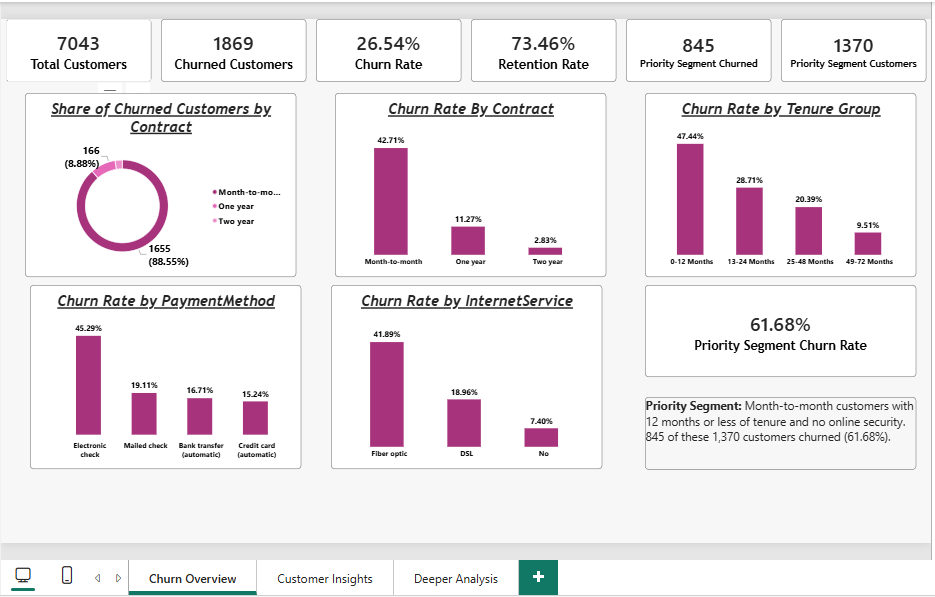

The dashboard page shown, as its layout file describes it:
{"tool":"powerbi","page":{"name":"Churn Overview","canvas":[1920,1080],"ordinal":0},"visuals":[{"type":"card","fields":{"Values":["TelcoCustomerChurn.Total Customers"]},"box":[10,0,300,130],"z":0},{"type":"card","fields":{"Values":["TelcoCustomerChurn.Churned Customers"]},"box":[330,0,300,130],"z":1000},{"type":"card","fields":{"Values":["TelcoCustomerChurn.Churn Rate"]},"box":[650,0,300,130],"z":2000},{"type":"card","fields":{"Values":["TelcoCustomerChurn.Retention Rate"]},"box":[970,0,300,130],"z":3000},{"type":"donutChart","title":"Share of Churned Customers by Contract","fields":{"Category":["TelcoCustomerChurn.Contract"],"Y":["TelcoCustomerChurn.Churned Customers"]},"box":[49.9,151.8,560,380],"z":4000},{"type":"clusteredColumnChart","title":"Churn Rate By Contract","fields":{"Category":["TelcoCustomerChurn.Contract"],"Y":["TelcoCustomerChurn.Churn Rate"]},"box":[689.6,151.8,560,380],"z":5000},{"type":"clusteredColumnChart","fields":{"Category":["TelcoCustomerChurn.PaymentMethod"],"Y":["TelcoCustomerChurn.Churn Rate"]},"box":[60.5,550,560,380],"z":6000},{"type":"clusteredColumnChart","fields":{"Category":["TelcoCustomerChurn.InternetService"],"Y":["TelcoCustomerChurn.Churn Rate"]},"box":[680.3,550,560,380],"z":7000},{"type":"clusteredColumnChart","fields":{"Category":["TelcoCustomerChurn.Tenure Group"],"Y":["TelcoCustomerChurn.Churn Rate"]},"box":[1329.4,151.8,560,380],"z":8000},{"type":"card","fields":{"Values":["TelcoCustomerChurn.Priority Segment Churned"]},"box":[1290,0,300,130],"z":9000},{"type":"card","fields":{"Values":["TelcoCustomerChurn.Priority Segment Customers"]},"box":[1610,0,300,130],"z":10000},{"type":"card","fields":{"Values":["TelcoCustomerChurn.Priority Segment Churn Rate"]},"box":[1330,550,560,190],"z":11000},{"type":"textbox","box":[1330,780,560,150],"z":12000}]}

Visuals, with their boxes on the page's 1920x1080 design canvas (x1, y1, x2, y2). These are canvas units, not pixel positions in the 935x597 screenshot, which may show the page scaled, cropped or inside an application window:
card - TelcoCustomerChurn.Total Customers: <box>10,0,310,130</box>
card - TelcoCustomerChurn.Churned Customers: <box>330,0,630,130</box>
card - TelcoCustomerChurn.Churn Rate: <box>650,0,950,130</box>
card - TelcoCustomerChurn.Retention Rate: <box>970,0,1270,130</box>
"Share of Churned Customers by Contract" donutChart: <box>50,152,610,532</box>
"Churn Rate By Contract" clusteredColumnChart: <box>690,152,1250,532</box>
clusteredColumnChart - TelcoCustomerChurn.PaymentMethod x TelcoCustomerChurn.Churn Rate: <box>60,550,620,930</box>
clusteredColumnChart - TelcoCustomerChurn.InternetService x TelcoCustomerChurn.Churn Rate: <box>680,550,1240,930</box>
clusteredColumnChart - TelcoCustomerChurn.Tenure Group x TelcoCustomerChurn.Churn Rate: <box>1329,152,1889,532</box>
card - TelcoCustomerChurn.Priority Segment Churned: <box>1290,0,1590,130</box>
card - TelcoCustomerChurn.Priority Segment Customers: <box>1610,0,1910,130</box>
card - TelcoCustomerChurn.Priority Segment Churn Rate: <box>1330,550,1890,740</box>
textbox: <box>1330,780,1890,930</box>
